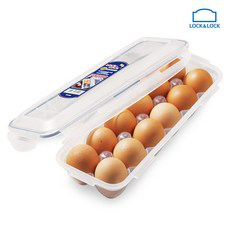egg: (66, 55, 213, 184)
